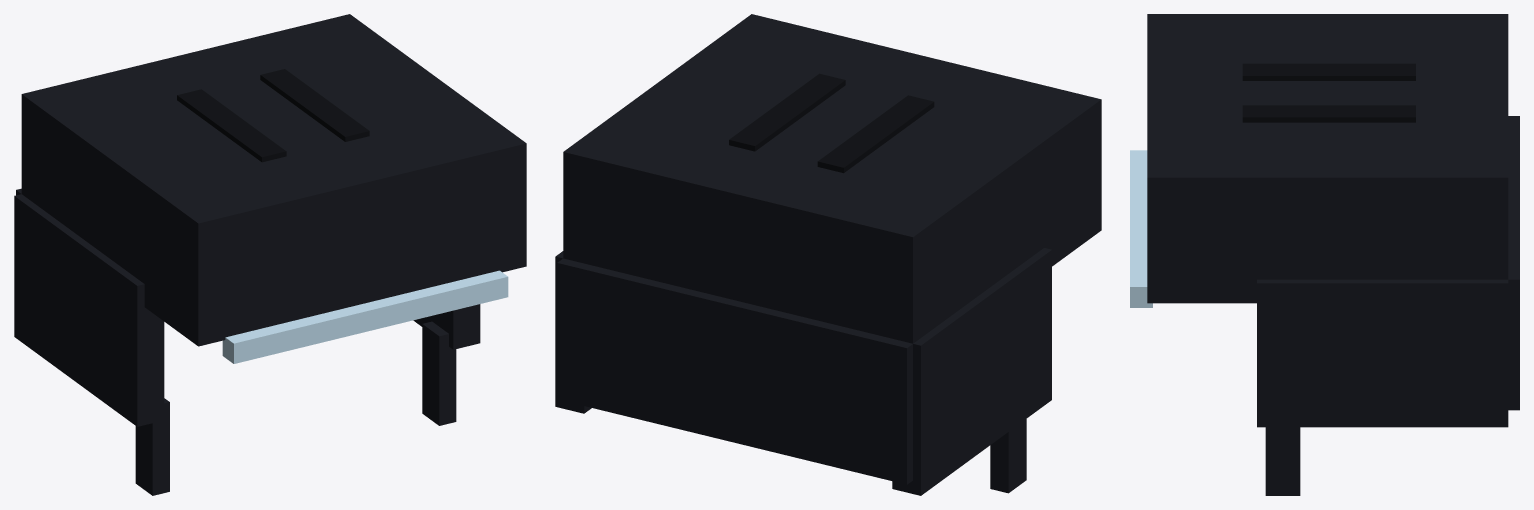
File: helmet_blades.glb
The picture shows the model from 3 angles, left to right: view 1: azimuth 30°, elevation 25°; view 2: azimuth 150°, elevation 25°; view 3: azimuth 270°, elevation 25°; orthographic projection. The views are drawn at different scales.
Visible parts, largest first — view 1: ice_helmet_body; view 2: ice_helmet_body; view 3: ice_helmet_body.
Boxes of the visible parts, <box> form: ice_helmet_body: <box>14,14,526,495</box>; ice_helmet_body: <box>555,14,1101,495</box>; ice_helmet_body: <box>1130,14,1519,495</box>.
Bounding box in the file's own units: 0.5385 × 0.4846 × 0.5192.
Materials: 1 (1 with a texture image).
